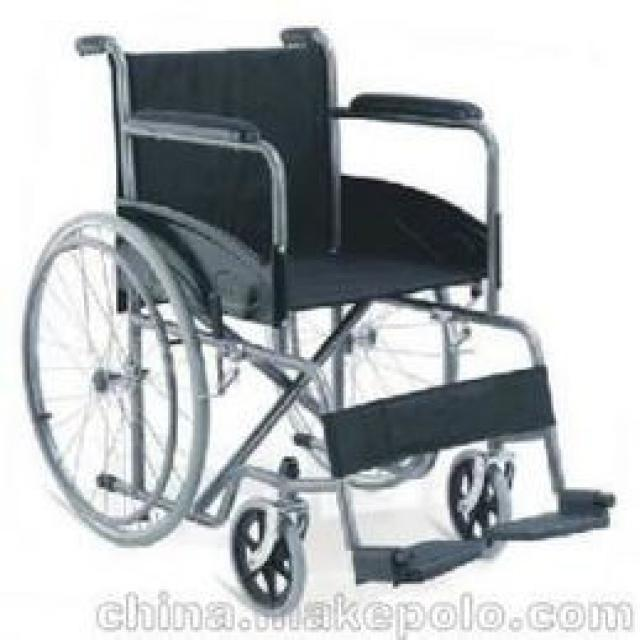wheelchair: (24, 13, 616, 602)
